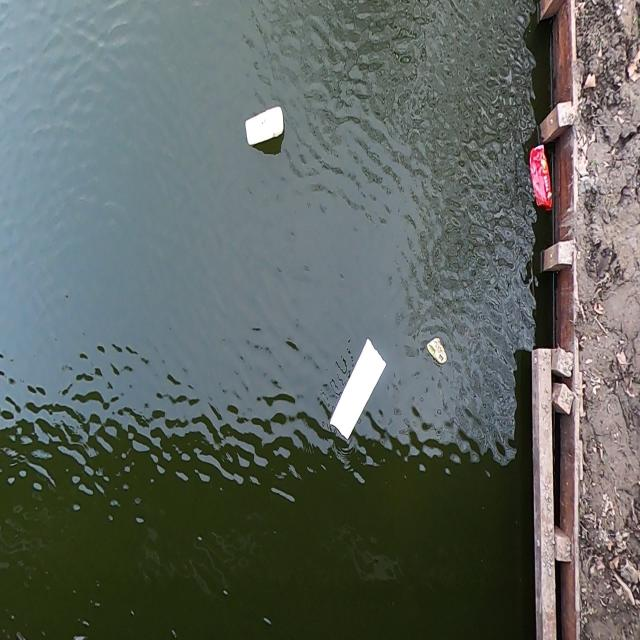Autre plastique: (527, 138, 553, 216)
